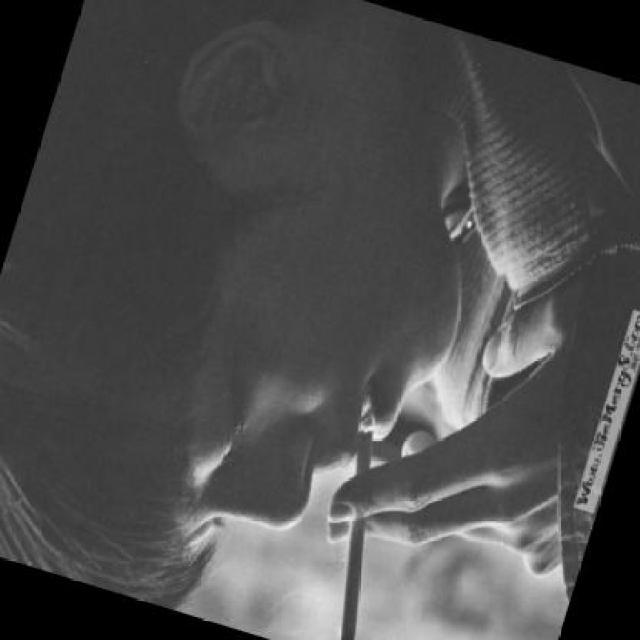cigarette: (292, 421, 421, 640)
